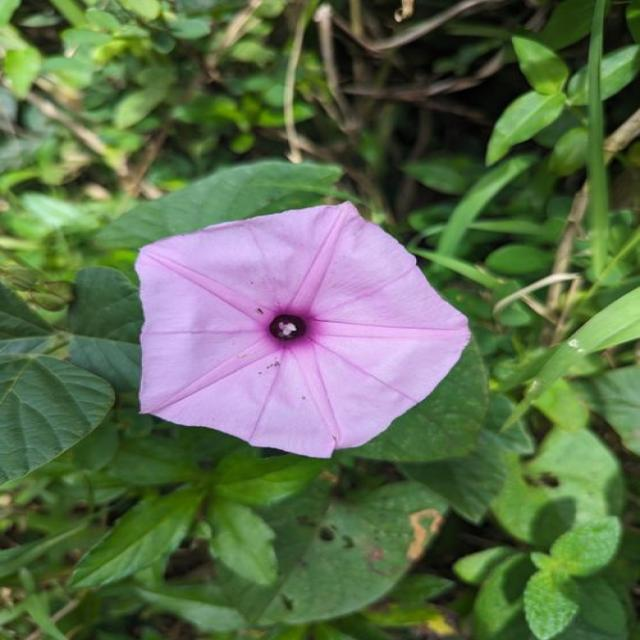ipomoea: (130, 199, 475, 462)
